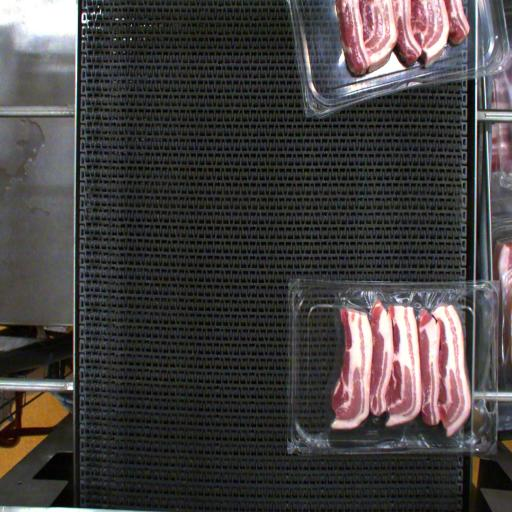unsealed: (328, 282, 482, 446)
